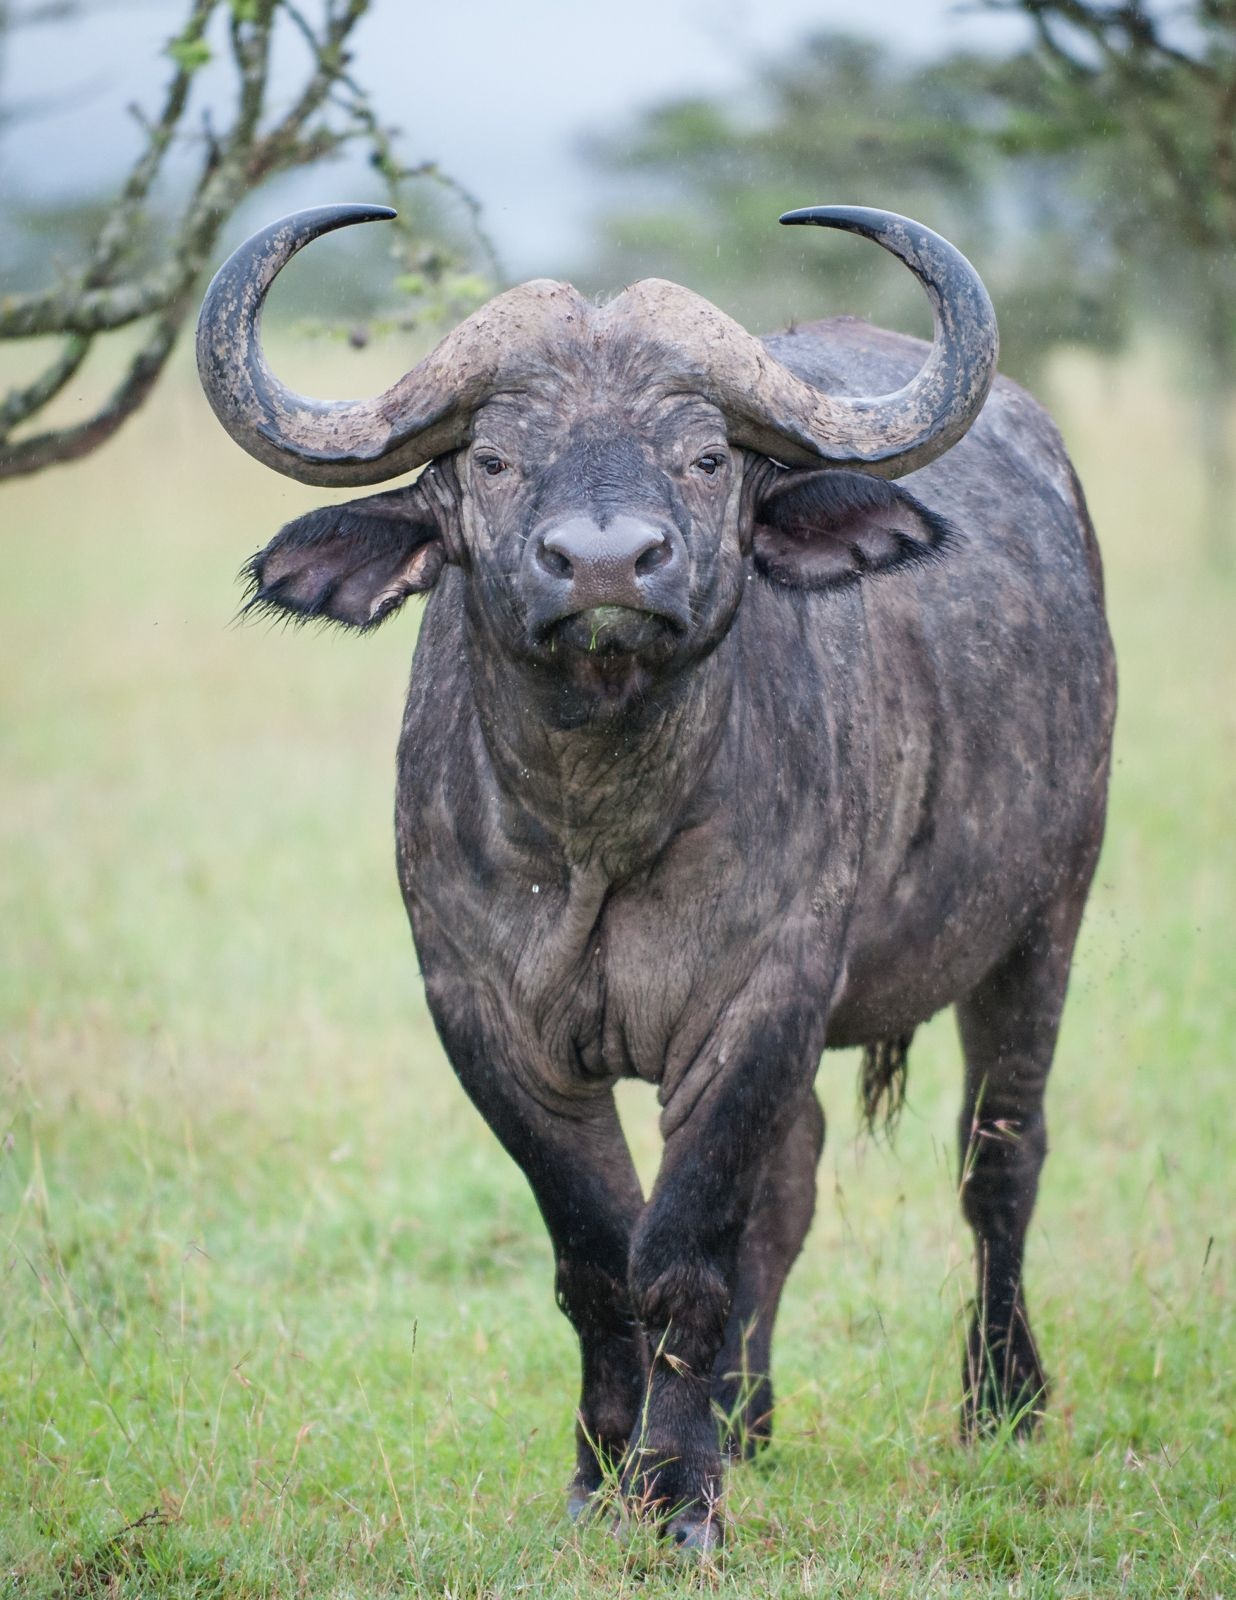buffalo: (191, 200, 1130, 1549)
